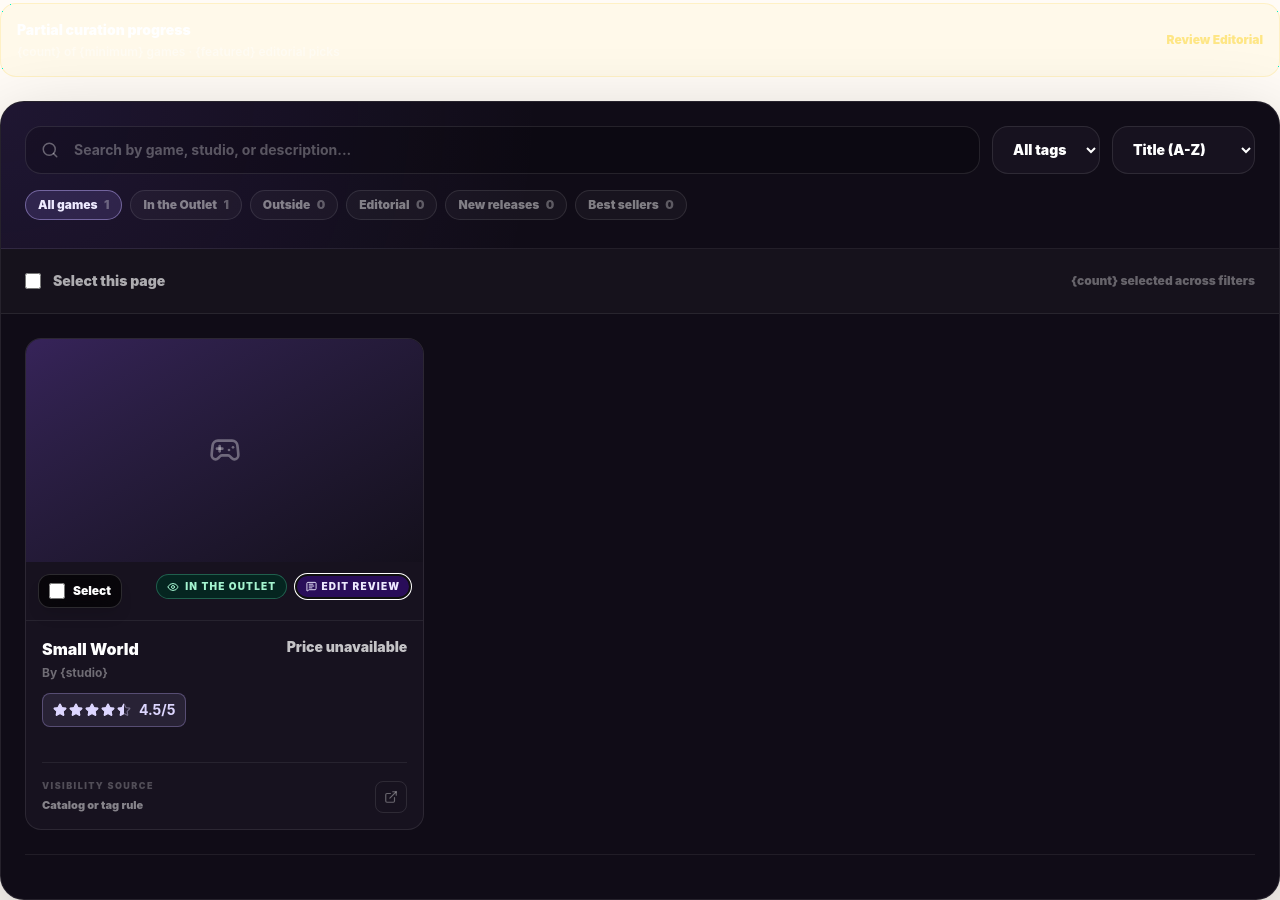
Scenario: ignores clicks inside the modal and closes a stale draft with focus restored
(page scrolled)
Click the button "Edit review" at (353, 587), box [295,574,411,599]
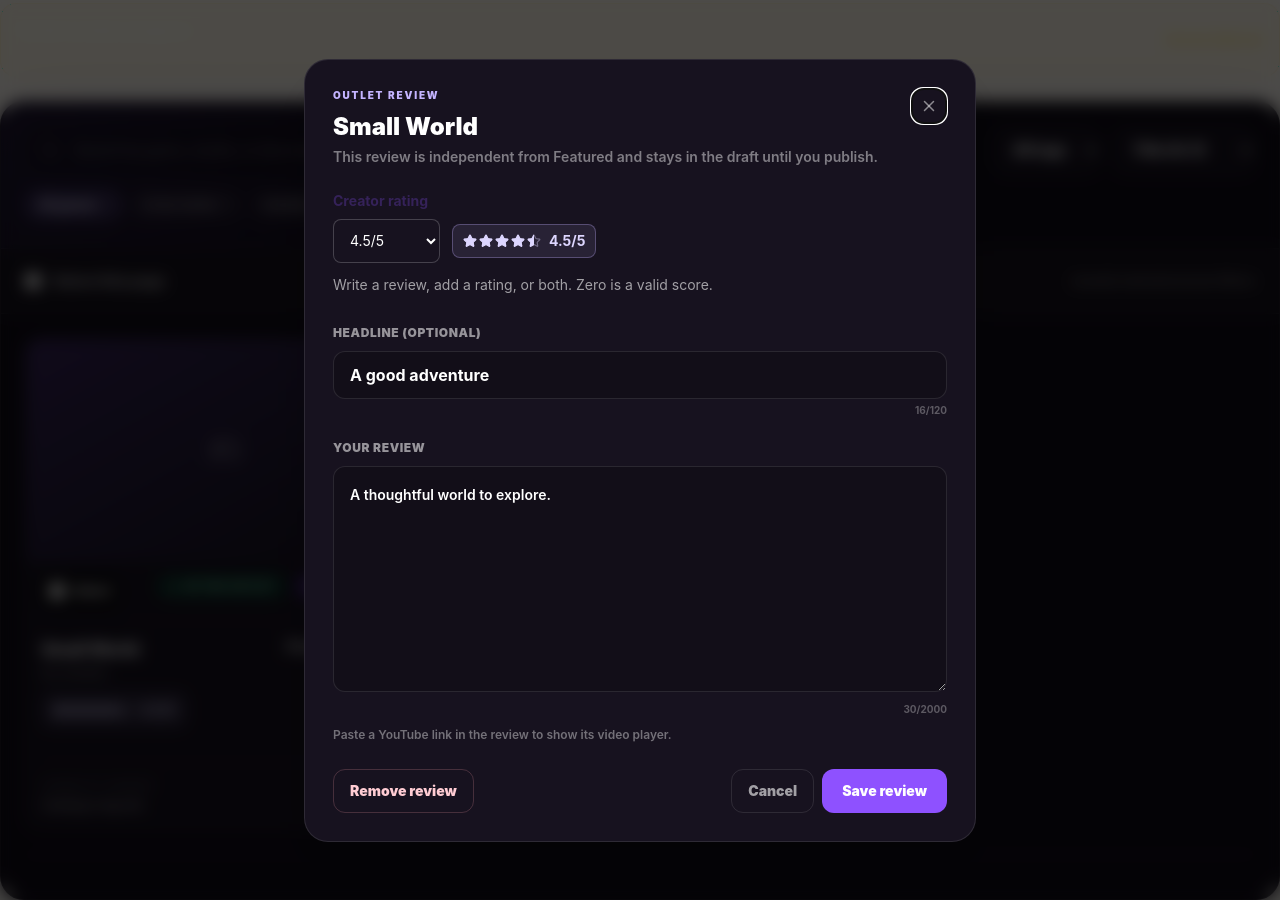
Press the mouse on the text box at (640, 578), box [333,466,947,692]
Expected: the dialog is shown
Click the button "Save review" at (885, 790), box [822,768,947,812]
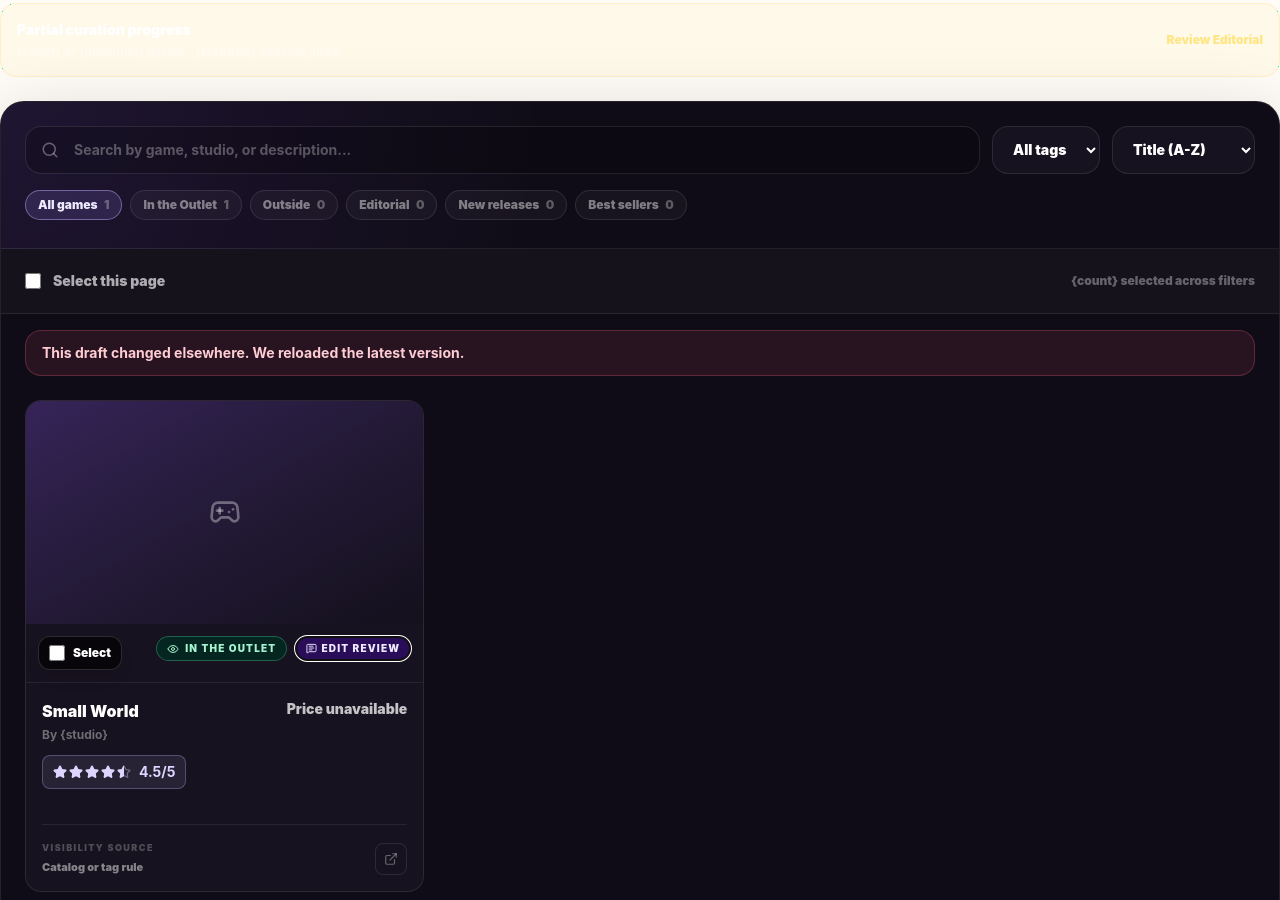
Expected: the dialog is gone
Expected: the text "This draft changed elsewhere" is shown, [42,344,464,361]
